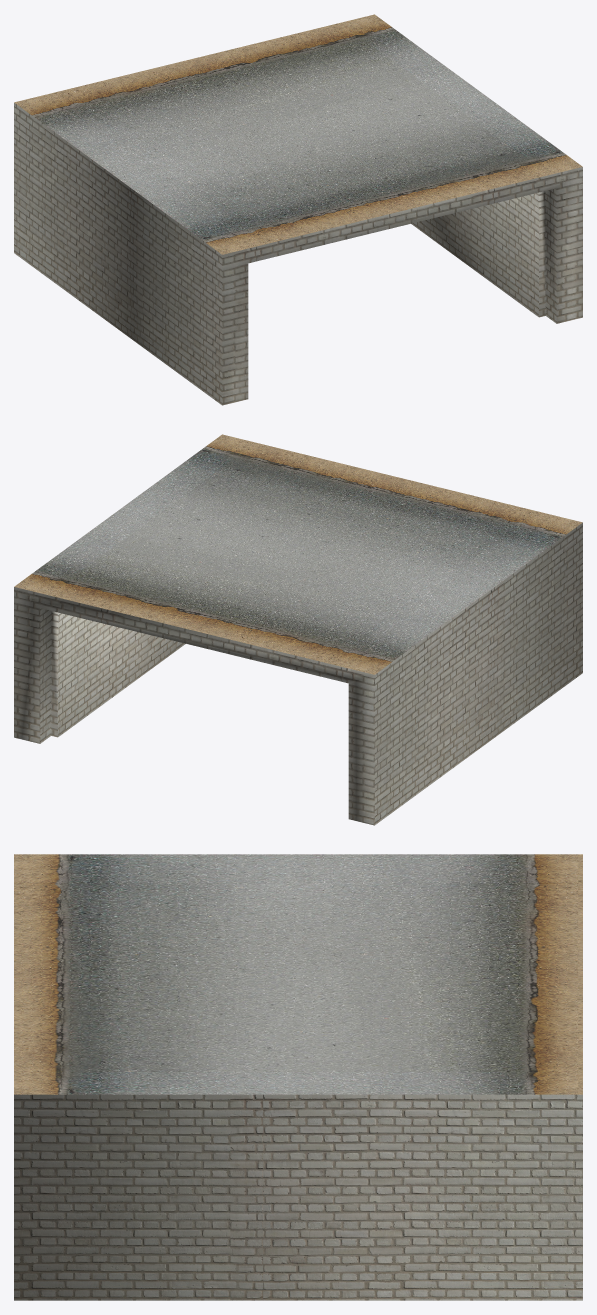
Rendered from brick_sand.fbx.
3 renders of one model, top to bottom at view 1: azimuth 30°, elevation 25°; view 2: azimuth 150°, elevation 25°; view 3: azimuth 270°, elevation 25°, orthographic. The views are drawn at different scales.
Visible parts, largest first — view 1: track, brick; view 2: track, brick; view 3: track, brick.
Boxes of the visible parts, x1,y1,x2,y2 form: track: (14, 14, 582, 254); brick: (14, 102, 582, 405); track: (14, 434, 582, 674); brick: (14, 522, 582, 825); track: (14, 854, 582, 1094); brick: (14, 1094, 582, 1300).
Bounding box in the file's own units: 200 × 79.84 × 200.
